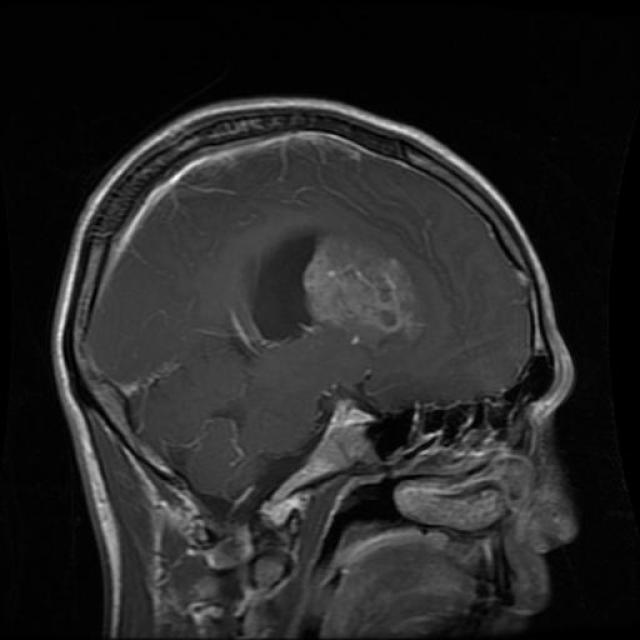glioma: (248, 231, 430, 344)
